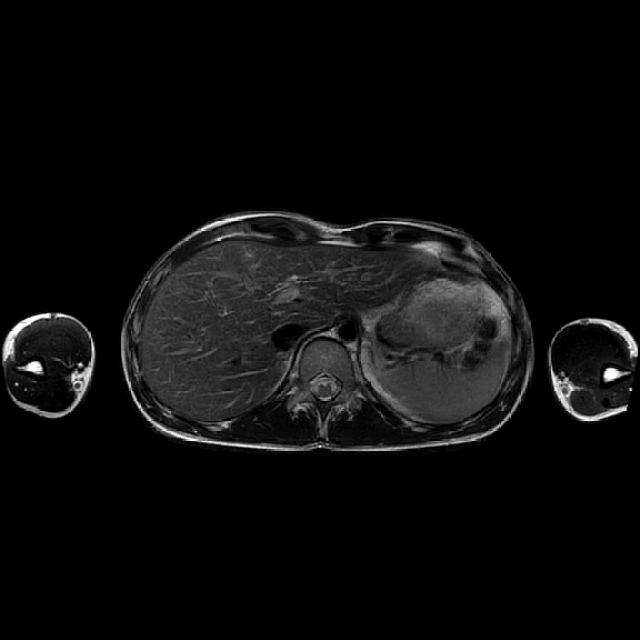sol: (376, 371, 425, 413)
